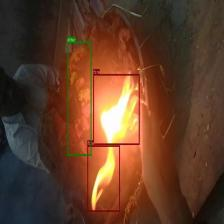fire: (93, 74, 139, 144), (87, 145, 120, 212)
